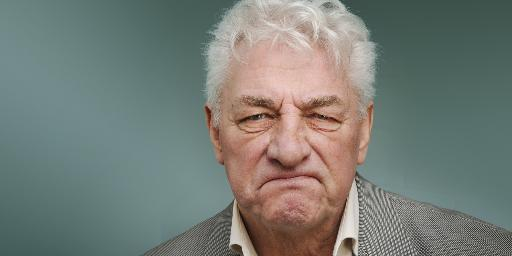left_eye: (308, 111, 342, 124)
left_lip_corner: (309, 173, 322, 185)
right_eye: (242, 112, 278, 124)
right_lip_corner: (259, 177, 276, 187)
